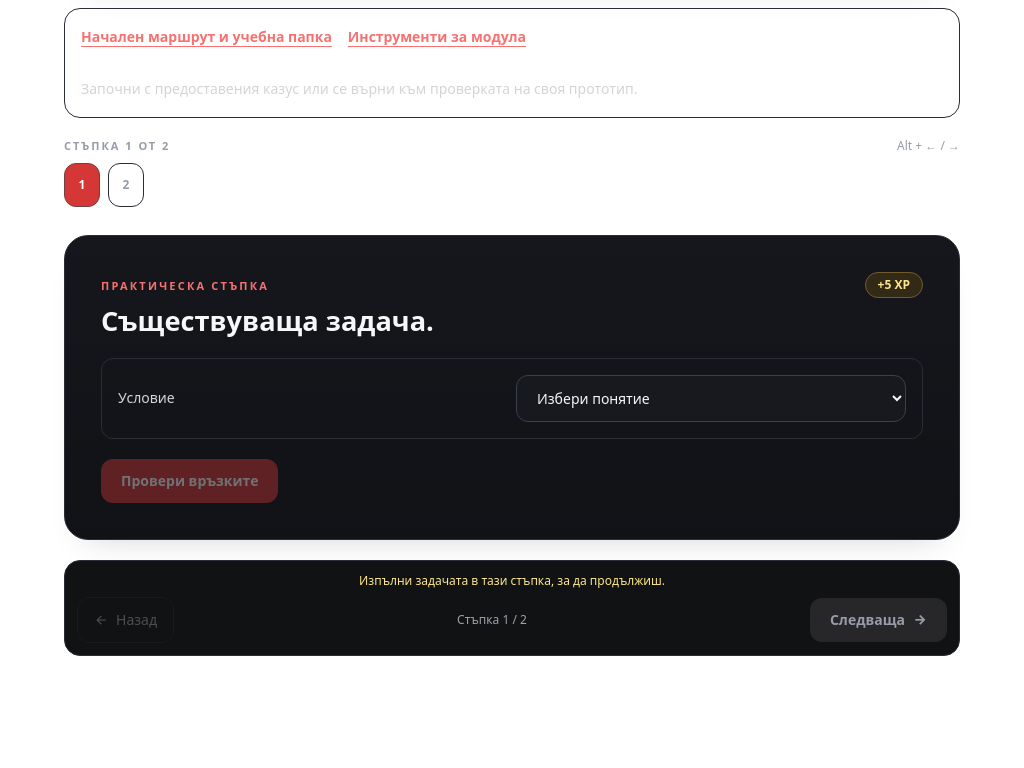
Lesson Engine V2 learning flow › autosaves drafts and supports Alt+Arrow keyboard navigation after completion
(page scrolled)
Select "Проверим избор" in the dropdown. click: (711, 398)
box: [516, 374, 906, 422]
Wait 700 ms
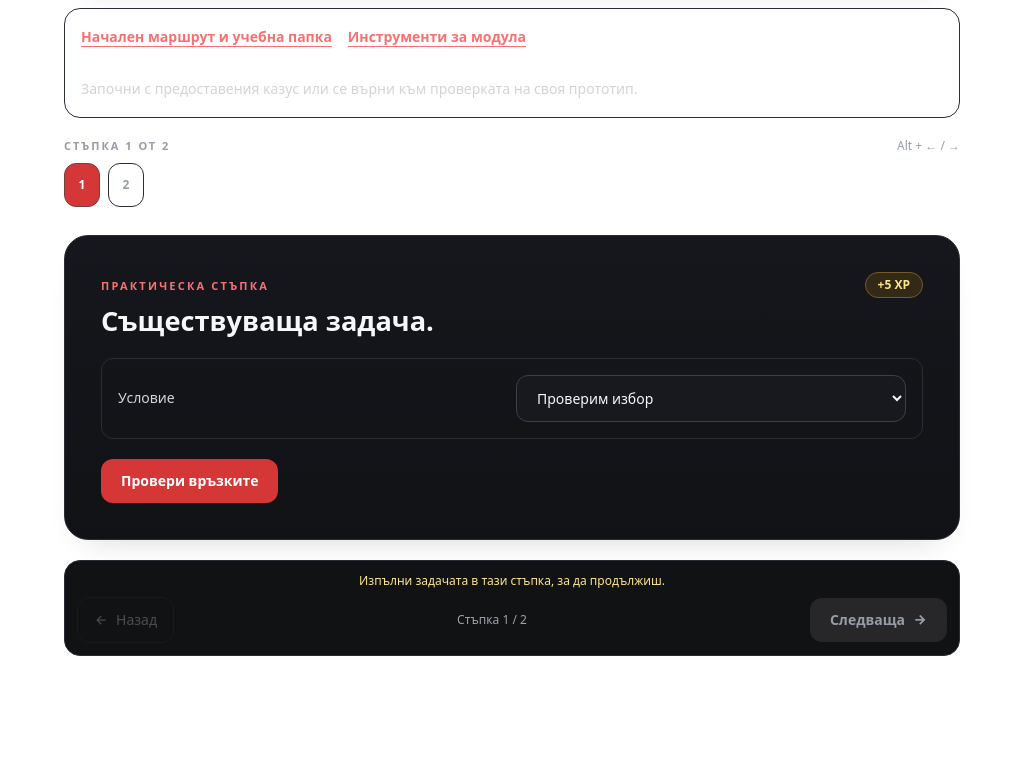
Click the button "Провери връзките". click: (190, 480)
box: [101, 458, 278, 502]
(page scrolled)
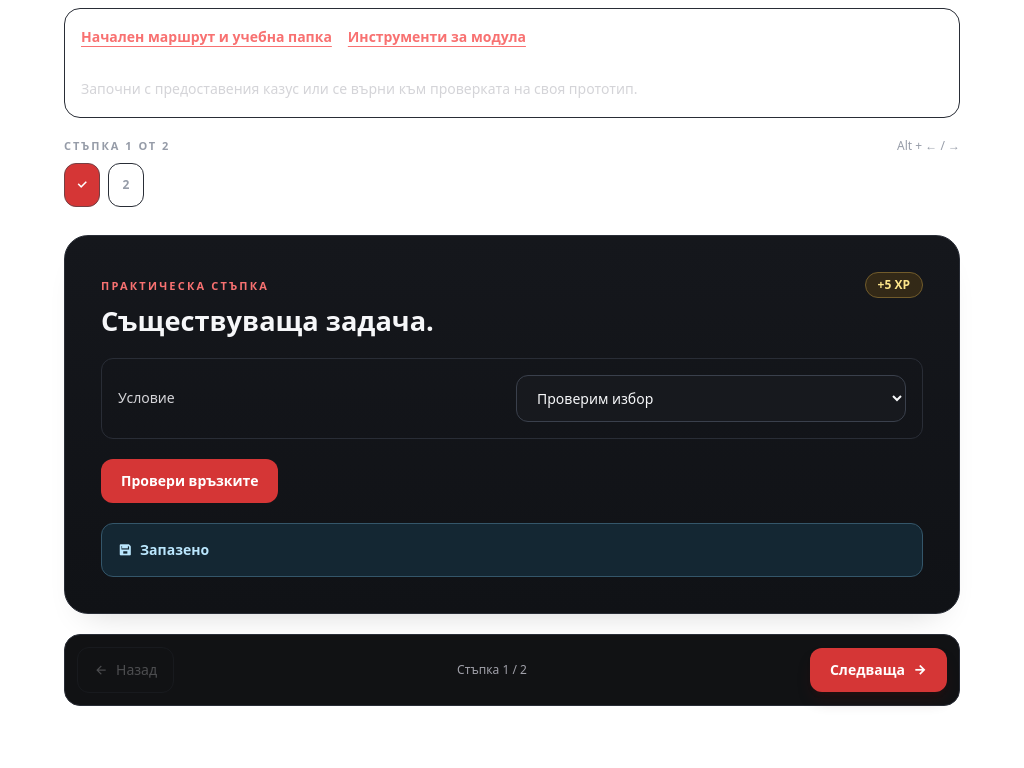
Press ArrowRight
(page scrolled)
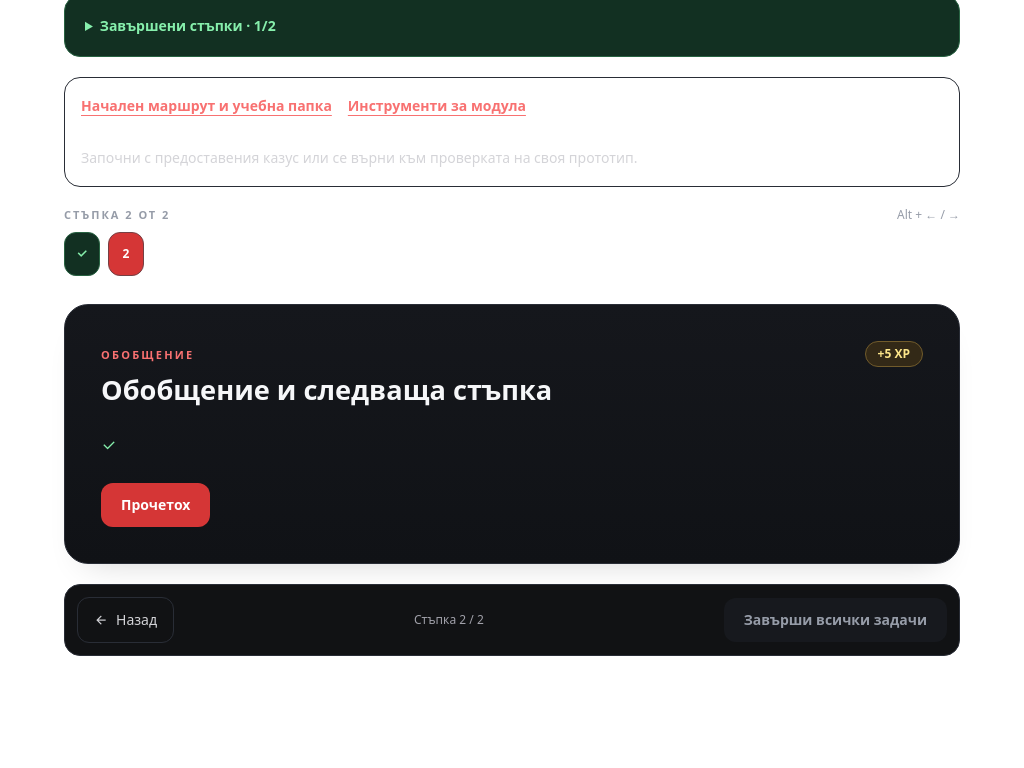
Expected: the heading "Обобщение и следваща стъпка" is shown, [101, 372, 552, 406]
